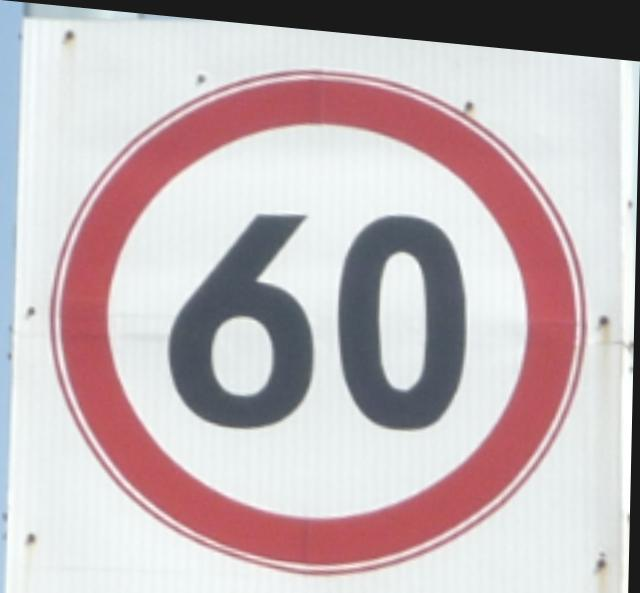limit60: (33, 28, 601, 593)
